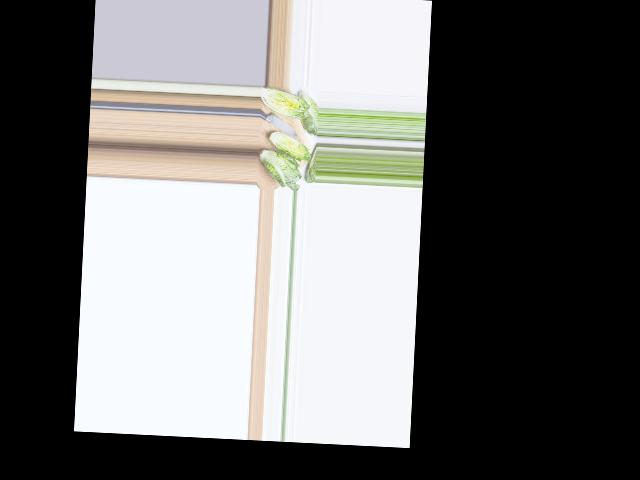lettuce: (296, 91, 317, 134)
